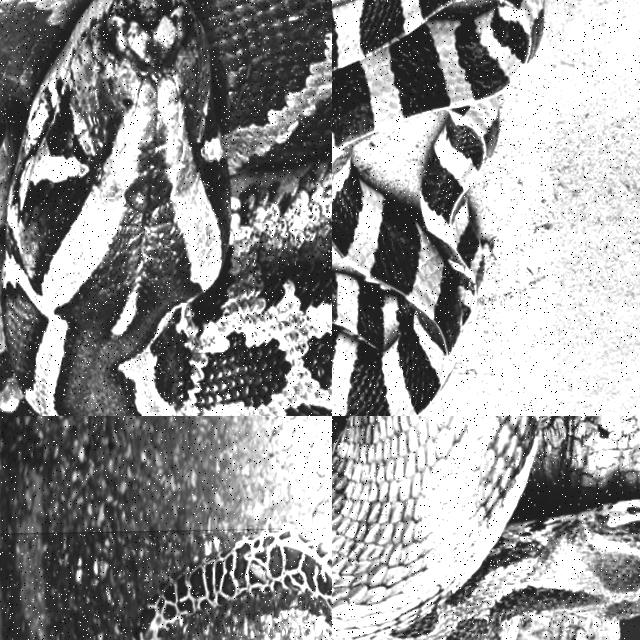Bungarus fasciatus: (332, 0, 543, 415)
Daboia siamensis: (332, 416, 639, 639)
Python bivittatus: (0, 0, 331, 415), (129, 525, 331, 639)
